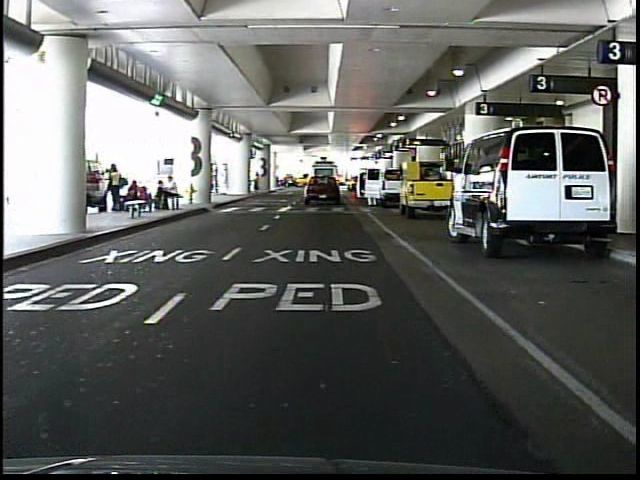person: (253, 169, 265, 194)
